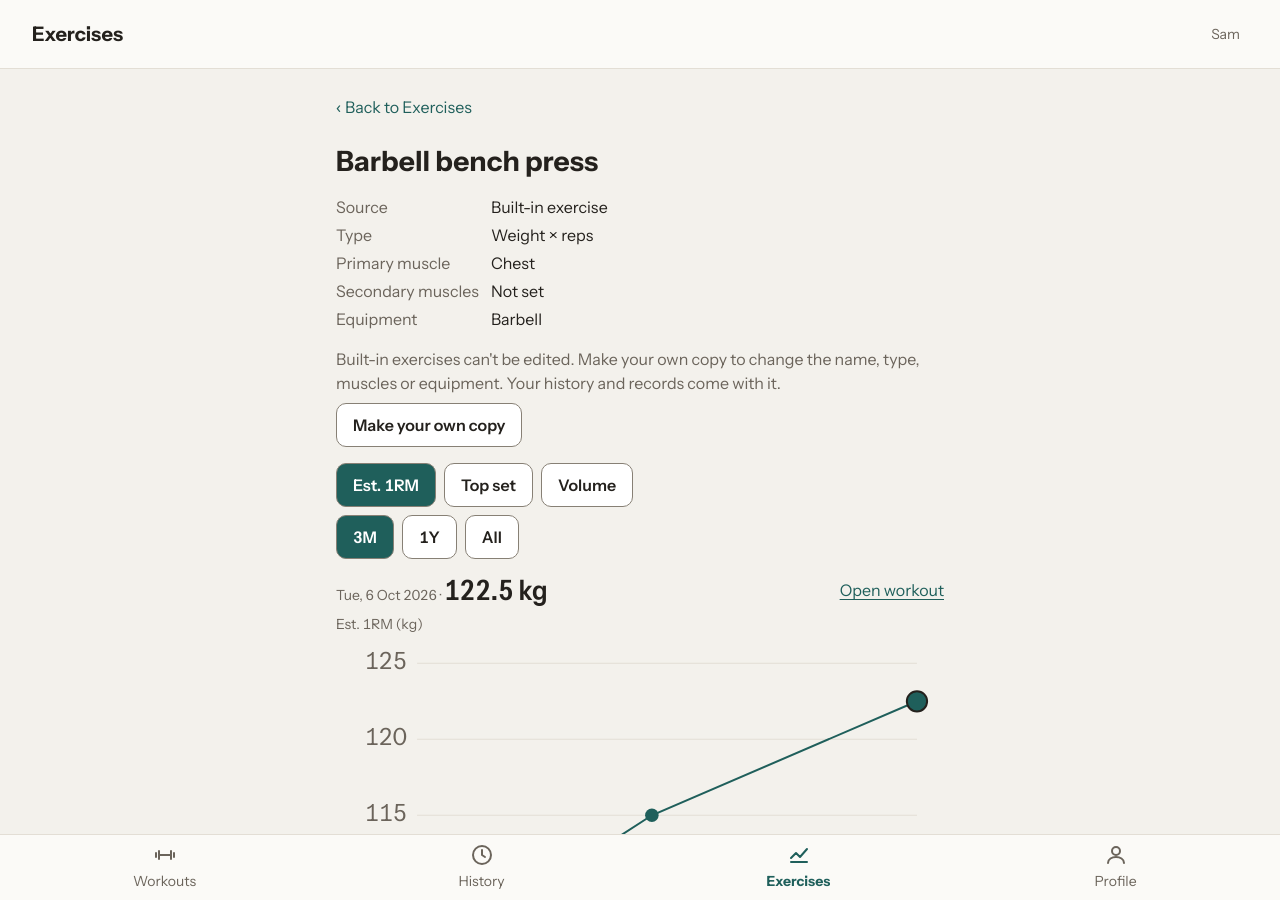
Test: 08.1 AC21 / 18.2 AC23 — series failure › a new range failing keeps the previous chart, labelled with its own range
Click the button "1Y" at point(429, 537), box [402, 515, 457, 559]
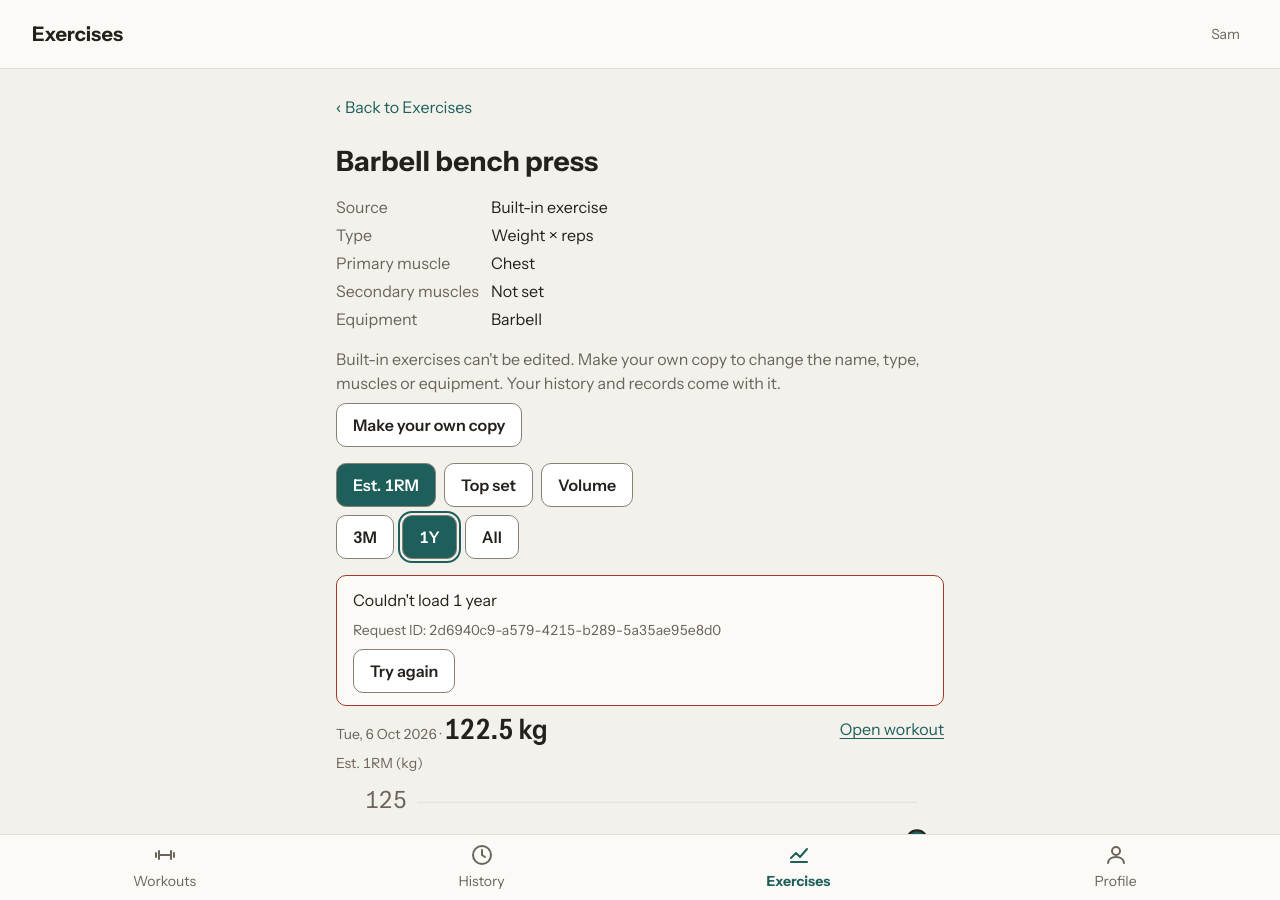
Expected: the message shows "Couldn't load 1 year", [336, 575, 944, 706]
Click the button "Try again" at point(404, 671), box [353, 649, 455, 693]
(page scrolled)
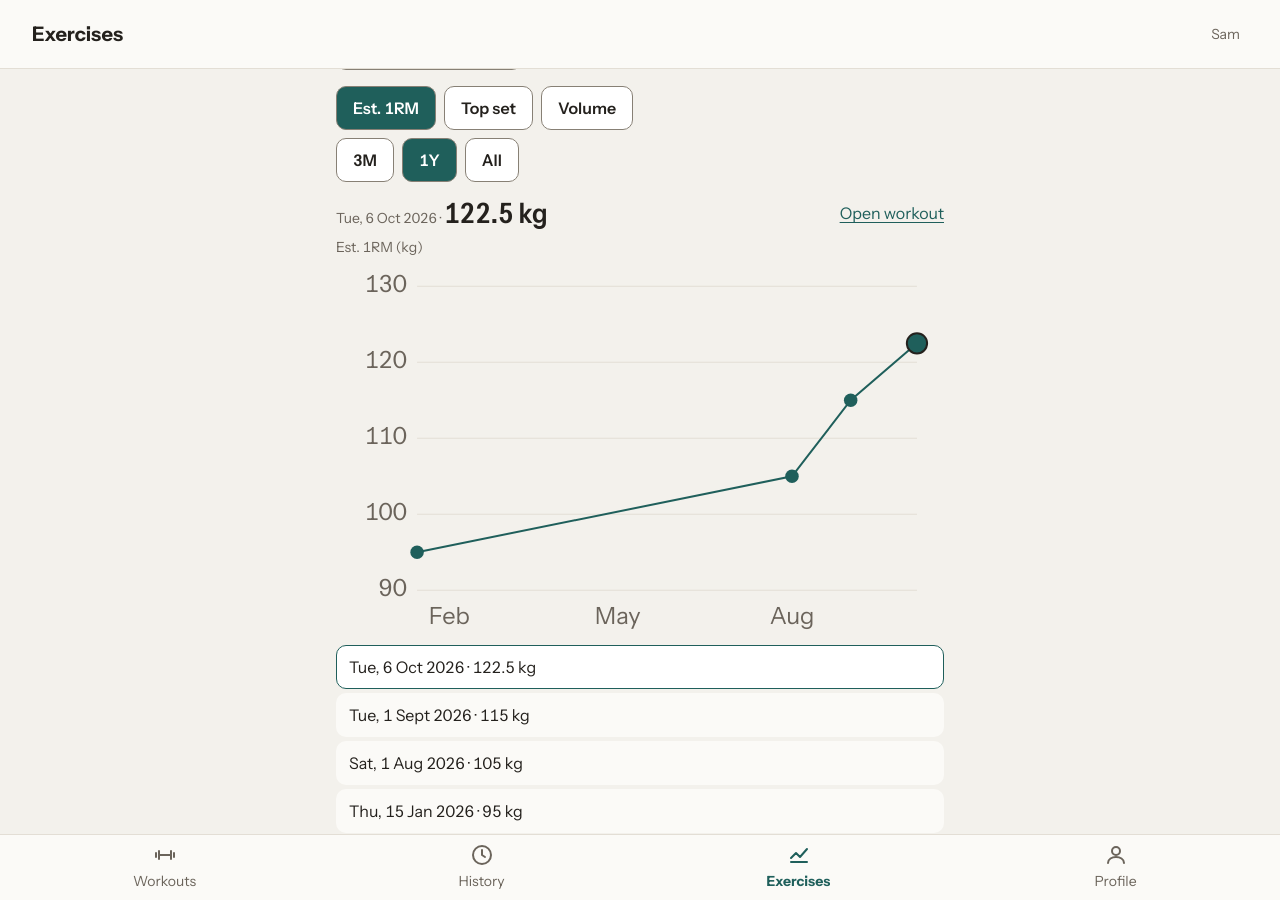
Expected: the picture named "1 year" is shown, [336, 266, 944, 637]
